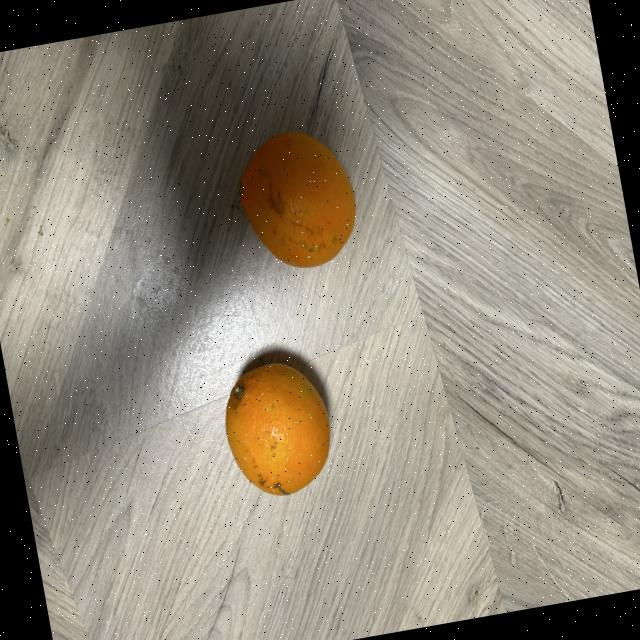orange: (239, 131, 355, 267), (224, 363, 329, 496)
